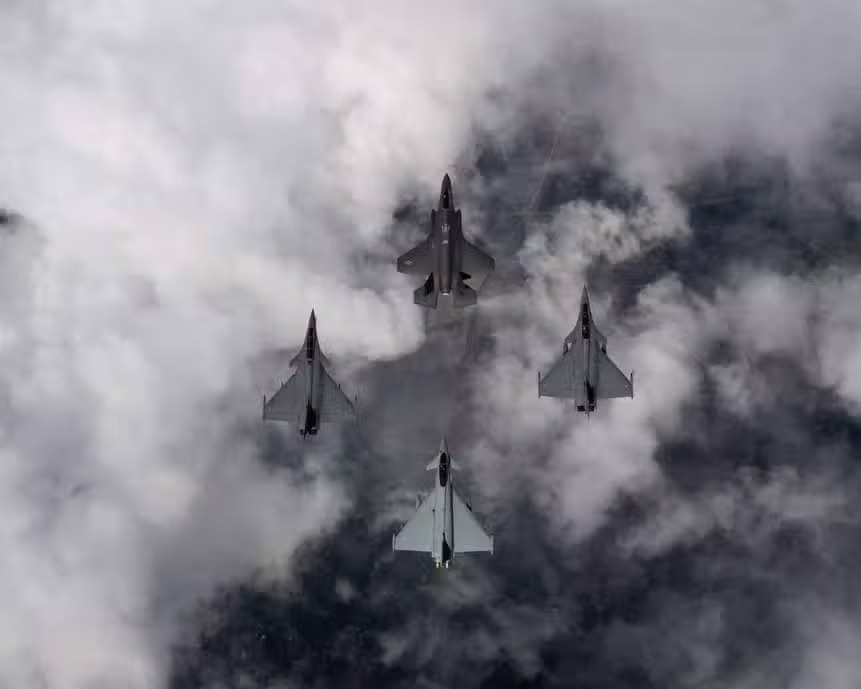F35: (395, 174, 496, 314)
Rafale: (536, 282, 634, 416), (261, 307, 361, 438)
